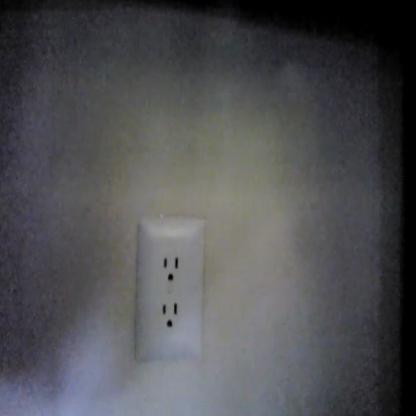OUTLET: (136, 216, 202, 361)
